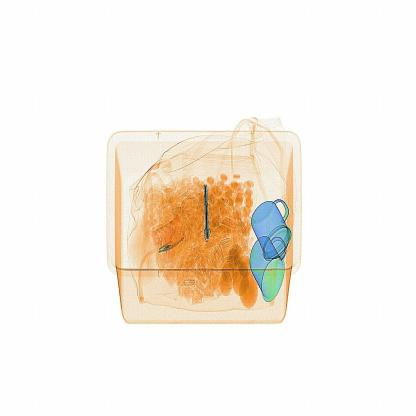knife: (190, 186, 214, 245)
